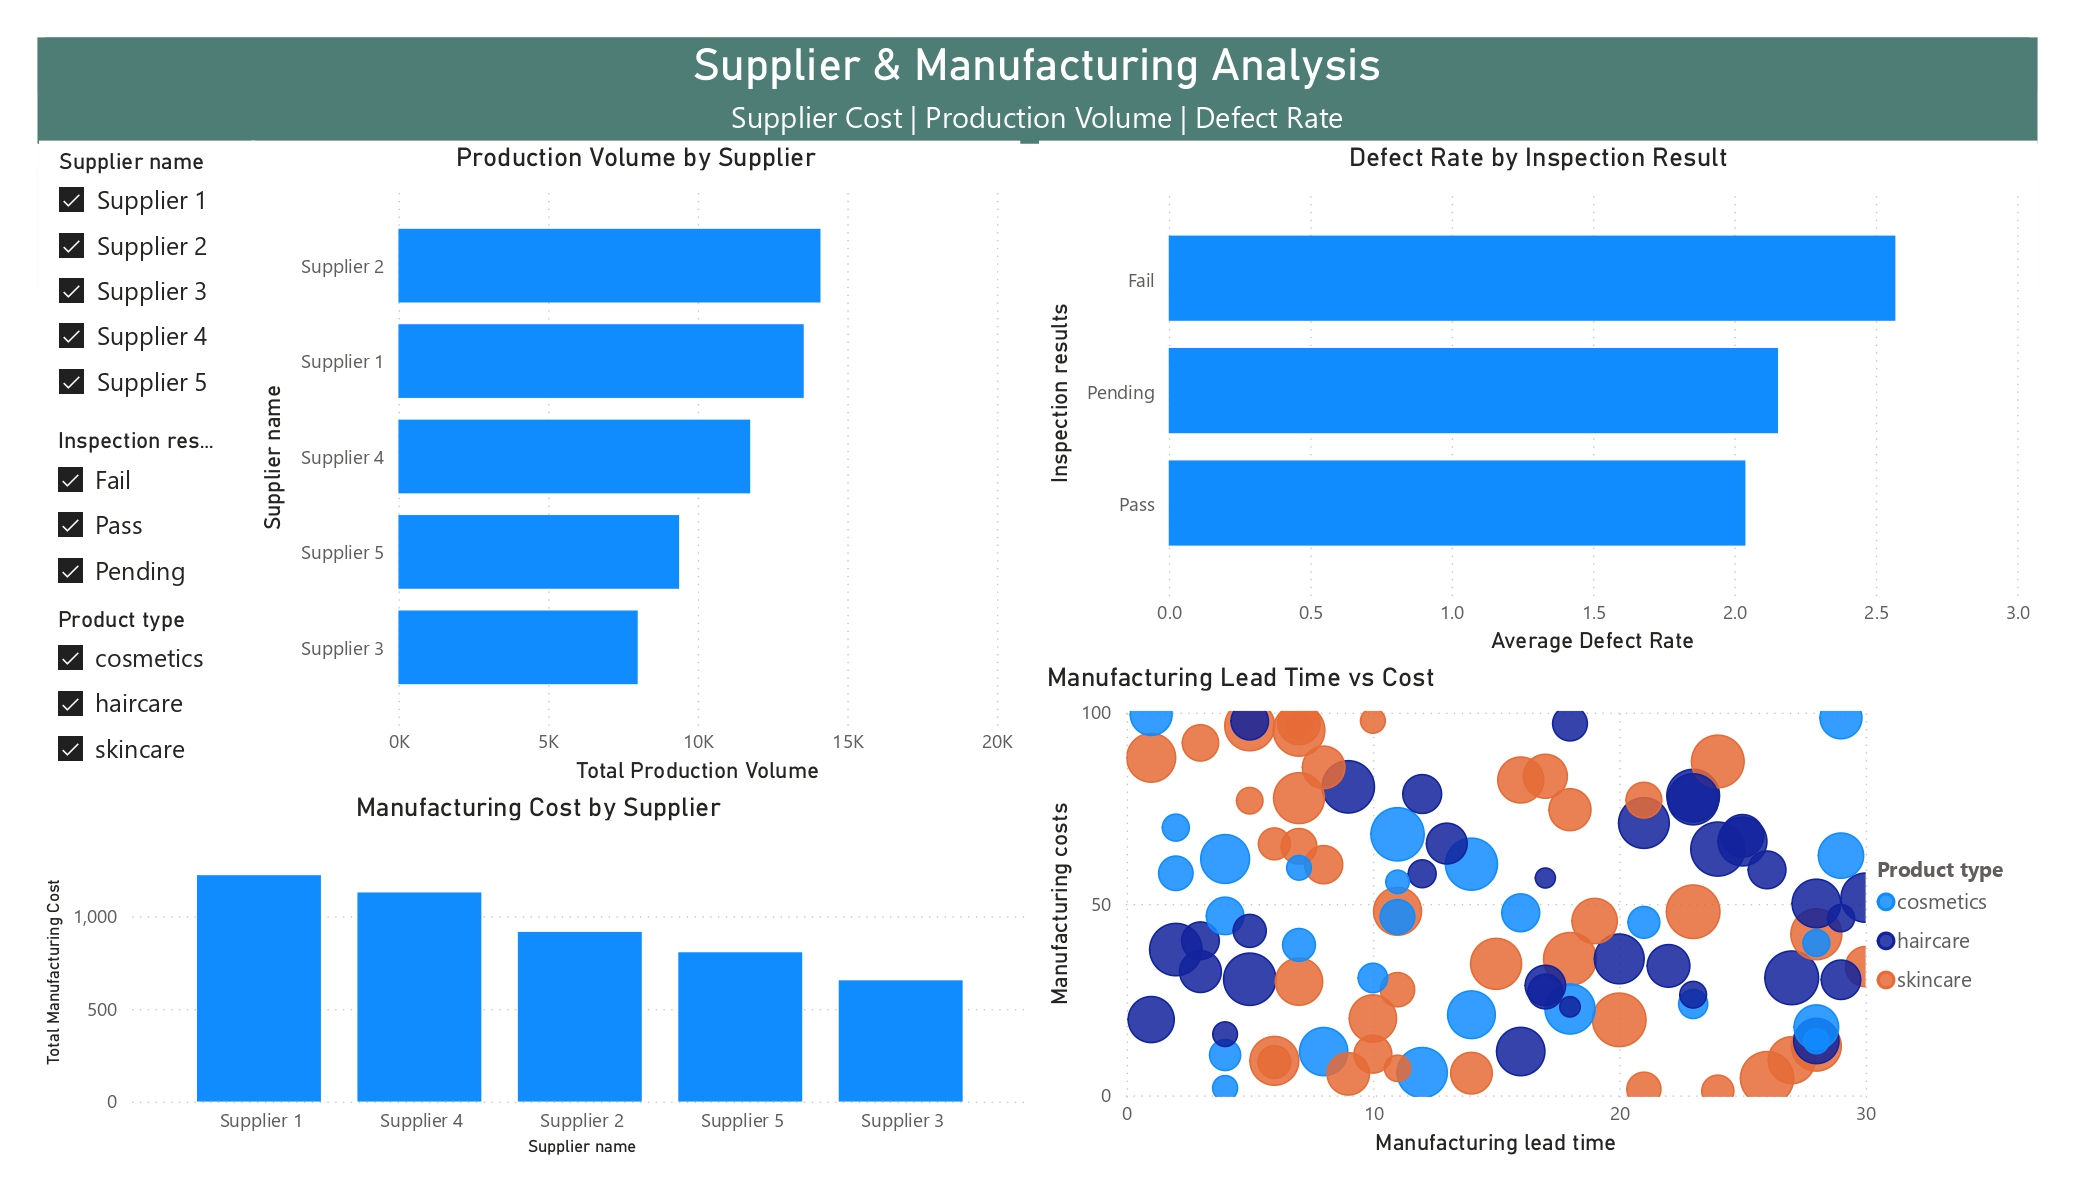

What the dashboard file says about the page in this screenshot:
{"tool":"powerbi","page":{"name":"Defect Rate by Inspection Result","canvas":[1280,720],"ordinal":2},"visuals":[{"type":"scatterChart","title":"Manufacturing Lead Time vs Cost","fields":{"X":["supply_chain_data.Manufacturing lead time"],"Y":["supply_chain_data.Manufacturing costs"],"Size":["Sum(supply_chain_data.Production volumes)"],"Series":["supply_chain_data.Product type"]},"box":[640.6,399.1,639.4,320.9],"z":0},{"type":"textbox","title":"Supplier & Manufacturing Analysis","box":[0,0,1280,86.2],"z":1000},{"type":"slicer","fields":{"Values":["supply_chain_data.Supplier name"]},"box":[1.1,65.8,138.3,179.1],"z":2000},{"type":"slicer","fields":{"Values":["supply_chain_data.Inspection results"]},"box":[0,244.9,137.2,114.5],"z":3000},{"type":"slicer","fields":{"Values":["supply_chain_data.Product type"]},"box":[0,359.4,137.2,122.4],"z":4000},{"type":"clusteredBarChart","title":"Production Volume by Supplier","fields":{"Category":["supply_chain_data.Supplier name"],"Y":["supply_chain_data.Total Production Volume"]},"box":[137.2,65.8,492,416.1],"z":5000},{"type":"clusteredColumnChart","title":"Manufacturing Cost by Supplier","fields":{"Category":["supply_chain_data.Supplier name"],"Y":["supply_chain_data.Total Manufacturing Cost"]},"box":[0,481.8,640.6,238.1],"z":6000},{"type":"clusteredBarChart","title":"Defect Rate by Inspection Result","fields":{"Category":["supply_chain_data.Inspection results"],"Y":["supply_chain_data.Average Defect Rate"]},"box":[640.6,65.8,639.4,333.3],"z":7000}]}

Visuals, with their boxes on the page's 1280x720 design canvas (x1, y1, x2, y2). These are canvas units, not pixel positions in the 2075x1200 screenshot, which may show the page scaled, cropped or inside an application window:
"Manufacturing Lead Time vs Cost" scatterChart: l=641, t=399, r=1280, b=720
"Supplier & Manufacturing Analysis" textbox: l=0, t=0, r=1280, b=86
slicer - supply_chain_data.Supplier name: l=1, t=66, r=139, b=245
slicer - supply_chain_data.Inspection results: l=0, t=245, r=137, b=359
slicer - supply_chain_data.Product type: l=0, t=359, r=137, b=482
"Production Volume by Supplier" clusteredBarChart: l=137, t=66, r=629, b=482
"Manufacturing Cost by Supplier" clusteredColumnChart: l=0, t=482, r=641, b=720
"Defect Rate by Inspection Result" clusteredBarChart: l=641, t=66, r=1280, b=399
